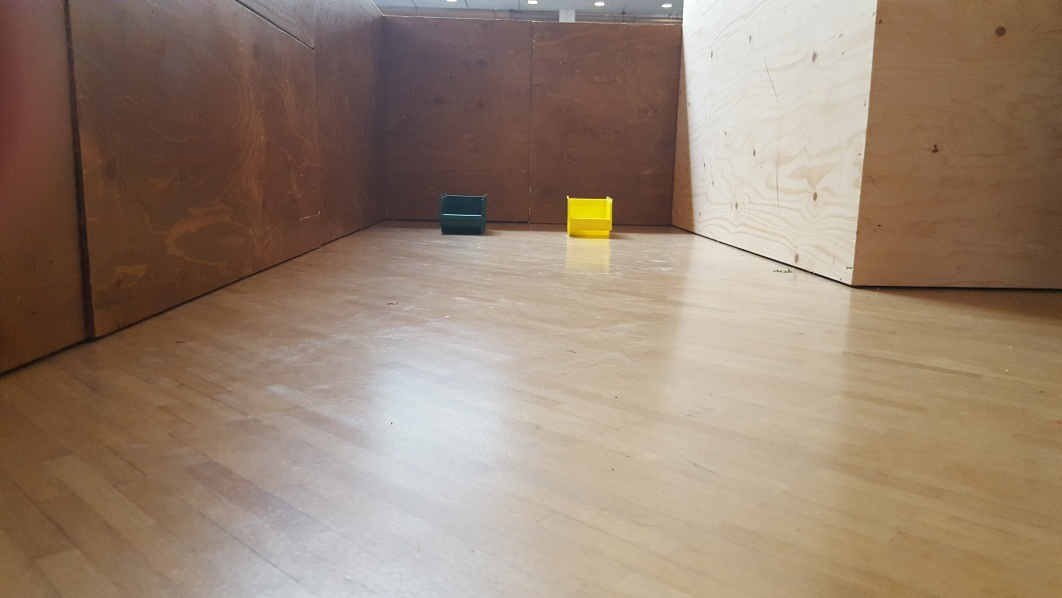tray: (436, 188, 490, 234), (565, 196, 618, 237)
